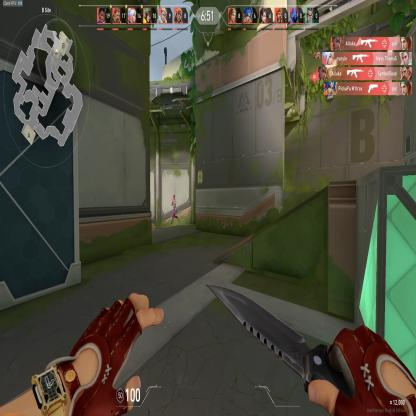enemy: (169, 194, 180, 226)
